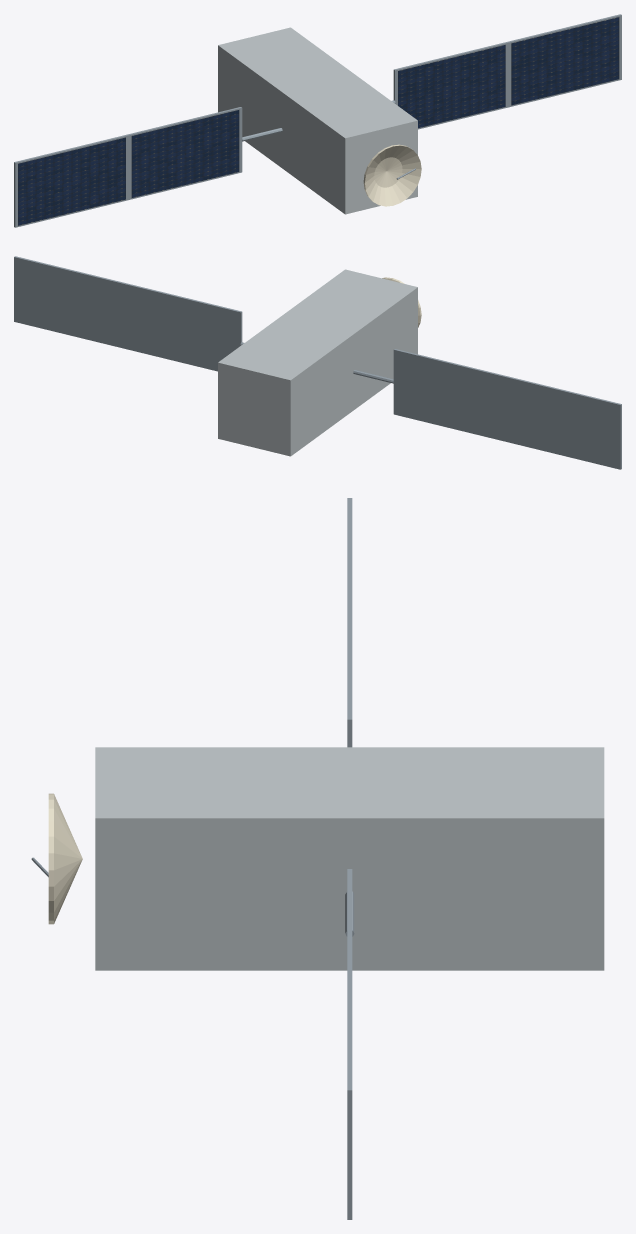
The model's file is ref-magnum-20355.glb.
The picture shows the model from 3 angles, top to bottom: view 1: azimuth 30°, elevation 25°; view 2: azimuth 150°, elevation 25°; view 3: azimuth 270°, elevation 25°; orthographic projection. The views are drawn at different scales.
Parts seen in each view (by area): view 1: Photovoltaic laminates (×4), Spacecraft body, Array frame (×4), Reflector dish; view 2: Array frame (×4), Spacecraft body; view 3: Spacecraft body, Reflector dish, Array frame.
Boxes of the visible parts, box(x1,y1,x2,y2) form: Photovoltaic laminates (×4): box(18, 17, 619, 225); Spacecraft body: box(218, 27, 417, 214); Array frame (×4): box(14, 14, 621, 227); Reflector dish: box(363, 144, 421, 206); Array frame (×4): box(14, 256, 621, 469); Spacecraft body: box(218, 269, 417, 456); Spacecraft body: box(95, 747, 604, 970); Reflector dish: box(48, 793, 82, 924); Array frame: box(347, 979, 352, 1219).
Size of the model in its own units: 30 by 3.6 by 12.27.
4 materials, 1 textured.
